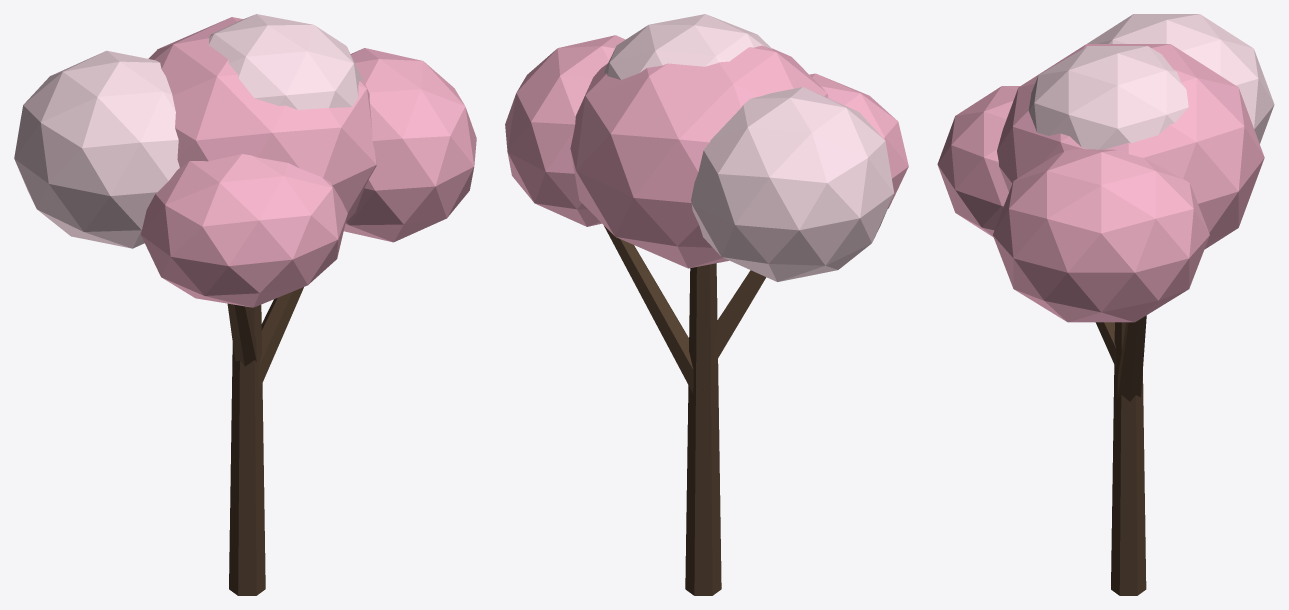
Rendered from sakura_tree_sakura_b.glb.
3 renders of one model, left to right at view 1: azimuth 30°, elevation 25°; view 2: azimuth 150°, elevation 25°; view 3: azimuth 270°, elevation 25°, orthographic. The views are drawn at different scales.
Visible parts, largest first — view 1: sakura_tree_sakura_b; view 2: sakura_tree_sakura_b; view 3: sakura_tree_sakura_b.
Boxes of the visible parts, left/top/right/bottom form: sakura_tree_sakura_b: left=14, top=14, right=476, bottom=595; sakura_tree_sakura_b: left=505, top=14, right=908, bottom=595; sakura_tree_sakura_b: left=937, top=14, right=1274, bottom=595.
Bounding box in the file's own units: 1.61 × 2.2 × 1.24.
1 material, 1 textured.
